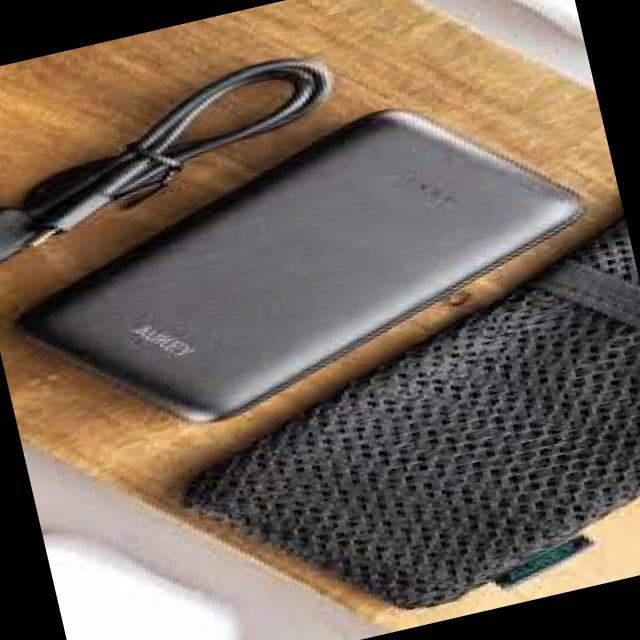power_bank: (0, 62, 621, 462)
